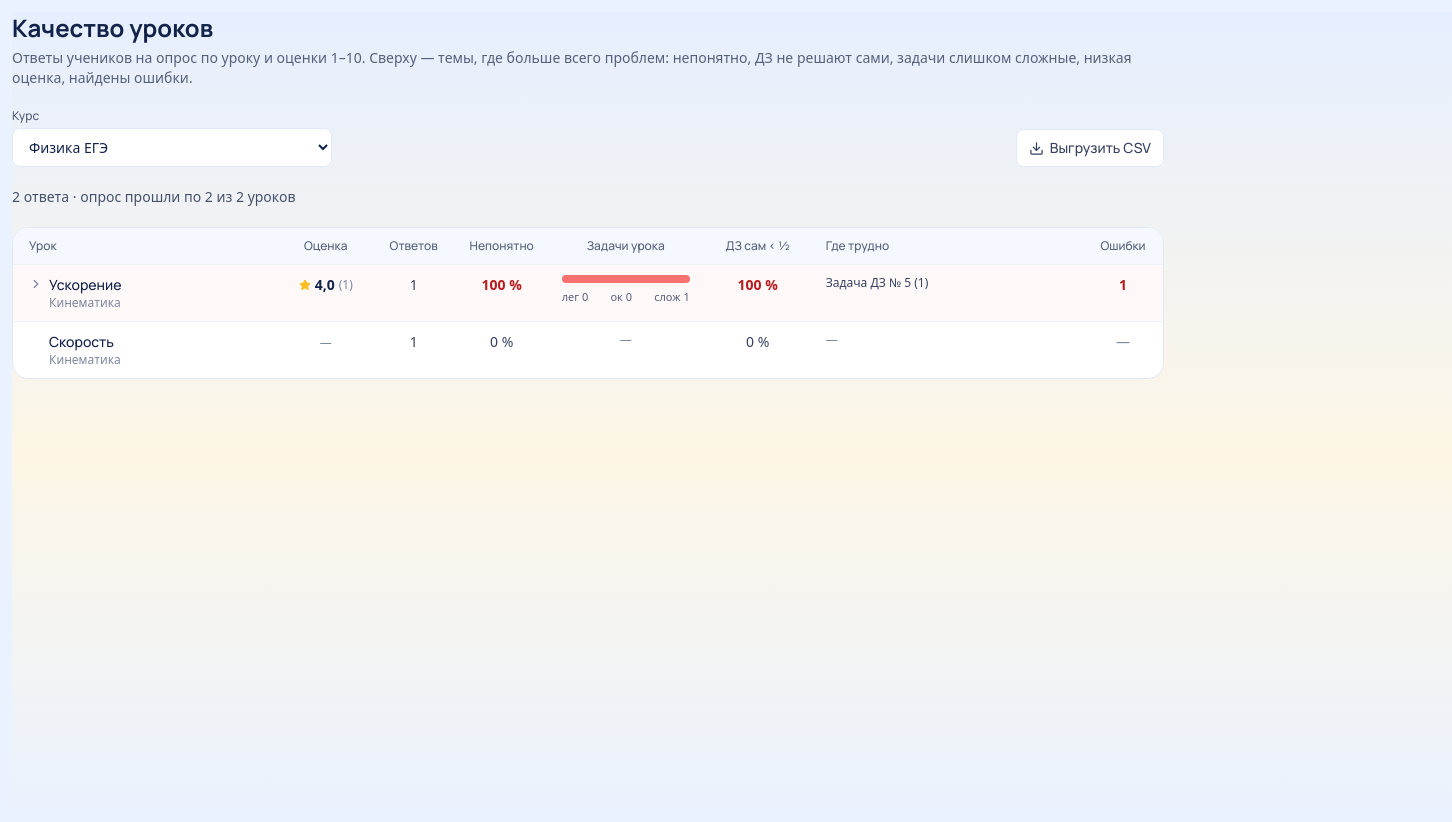
Test: TopicQualityPage › худшая тема сверху; «где трудно» с номером; ошибка — со ссылкой на ученика
The image size is (1452, 822).
Expected: the 1st cell with test id "topic-quality-unclear" reads "100 %", left=482, top=275, right=522, bottom=294
Expected: the 2nd cell with test id "topic-quality-hwlow" reads "100 %", left=738, top=275, right=778, bottom=294
Click the button "Ускорение Кинематика": (145, 293) left=29, top=275, right=262, bottom=311
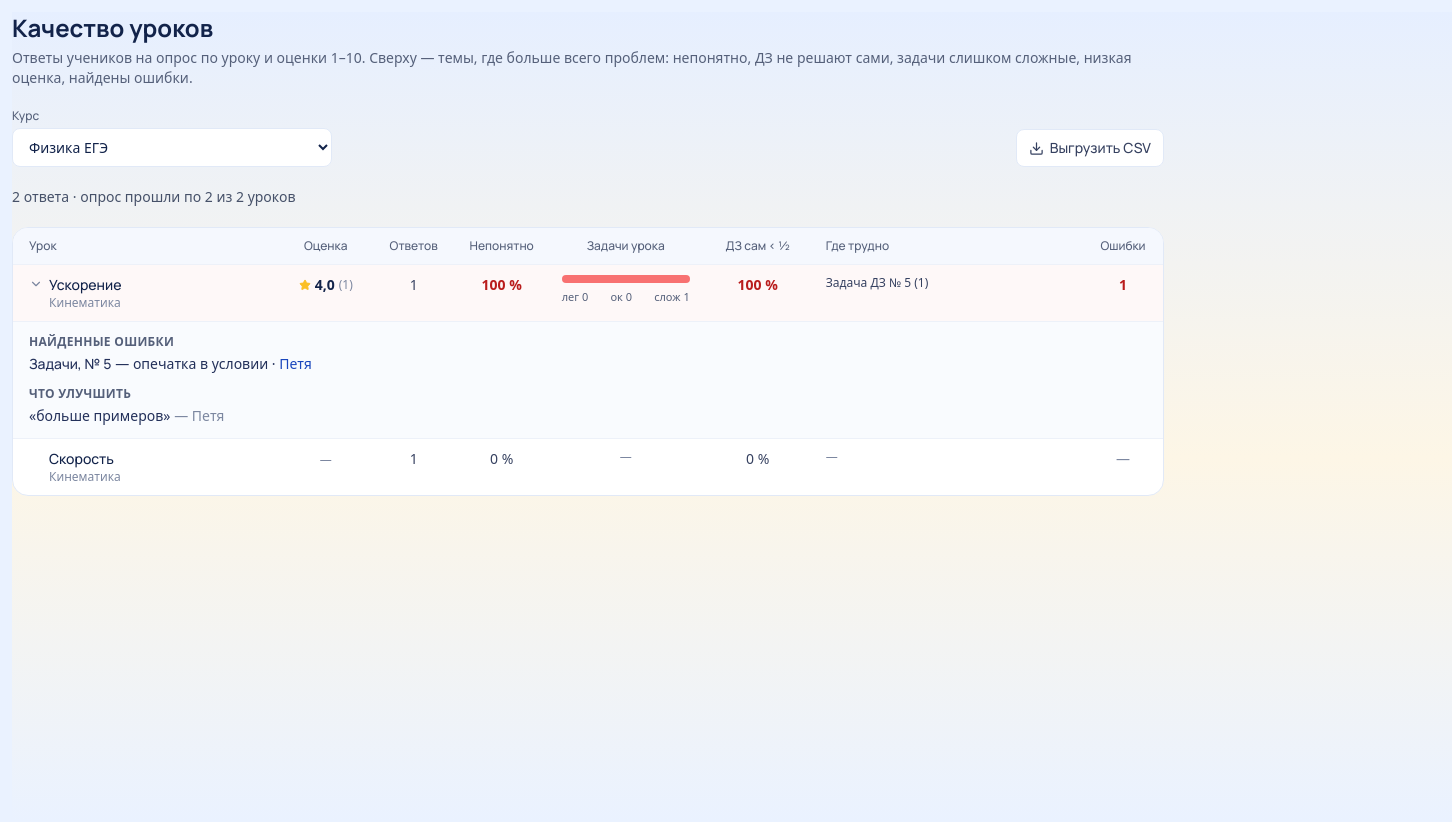
Expected: the row with test id "topic-quality-details" shows "Задачи, № 5 — опечатка в условии", left=13, top=322, right=1163, bottom=438
Expected: the row with test id "topic-quality-details" shows "«больше примеров»", left=13, top=322, right=1163, bottom=438
